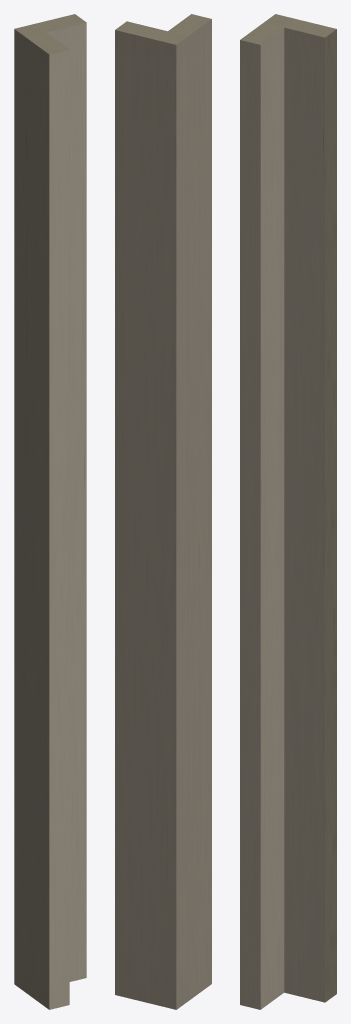
Rendered from house_corner_trim.glb.
The picture shows the model from 3 angles, left to right: view 1: azimuth 30°, elevation 25°; view 2: azimuth 150°, elevation 25°; view 3: azimuth 330°, elevation 25°; orthographic projection.
Visible parts, largest first — view 1: outdoor_house_corner_trim; view 2: outdoor_house_corner_trim; view 3: outdoor_house_corner_trim.
Boxes of the visible parts, x1=… form: outdoor_house_corner_trim: x1=14, y1=14, x2=86, y2=1009; outdoor_house_corner_trim: x1=115, y1=14, x2=211, y2=1009; outdoor_house_corner_trim: x1=240, y1=14, x2=336, y2=1009.
Bounding box in the file's own units: 0.18 × 2.7 × 0.18.
Materials: 1 (1 with a texture image).
